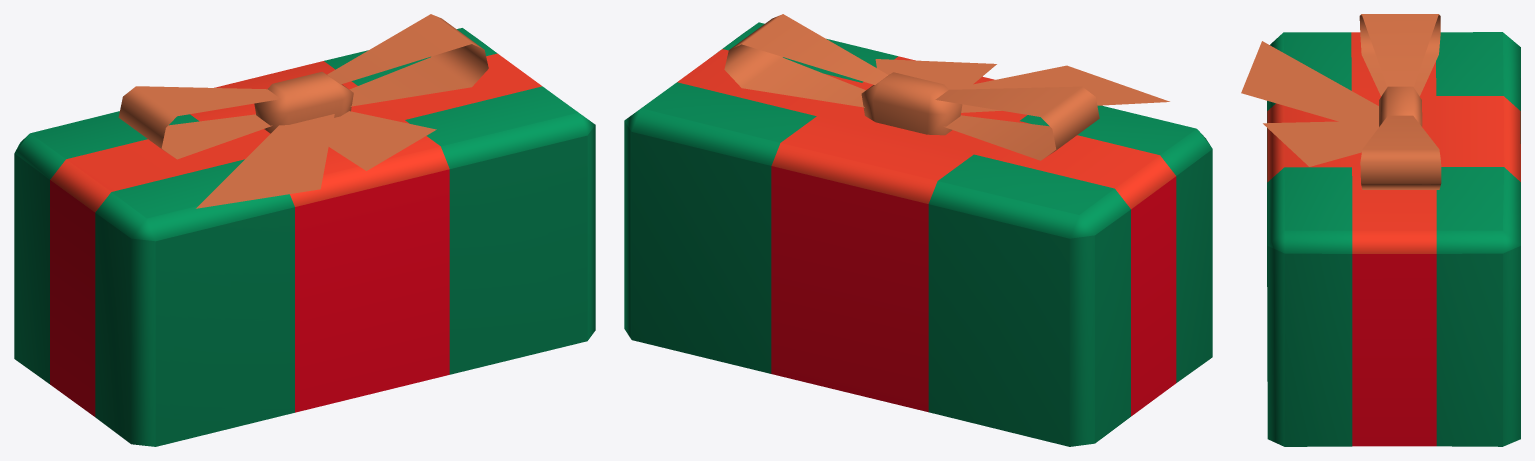
File: Gift_Christmas.fbx
The picture shows the model from 3 angles, left to right: view 1: azimuth 30°, elevation 25°; view 2: azimuth 150°, elevation 25°; view 3: azimuth 270°, elevation 25°; orthographic projection. The views are drawn at different scales.
Parts seen in each view (by area): view 1: Gift_Christmas; view 2: Gift_Christmas; view 3: Gift_Christmas.
Part boxes in pixels (x1,y1,x2,y2): Gift_Christmas: [14, 14, 595, 446]; Gift_Christmas: [624, 14, 1212, 446]; Gift_Christmas: [1241, 14, 1520, 446].
Size of the model in its own units: 56.6 by 32.13 by 31.37.
